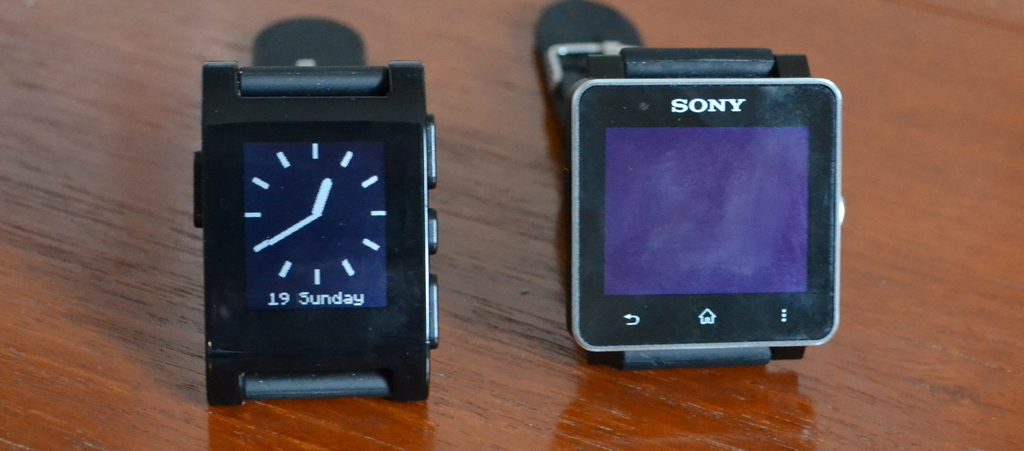watch: (527, 0, 854, 370), (184, 4, 447, 403)
